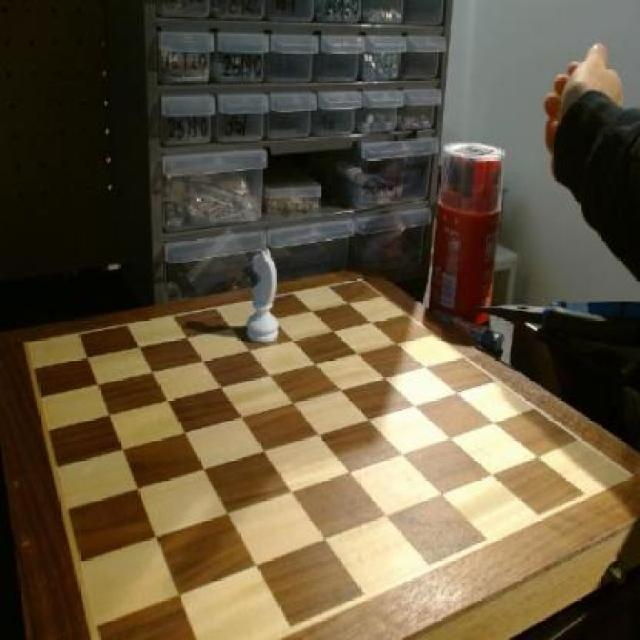white-king: (244, 249, 284, 348)
